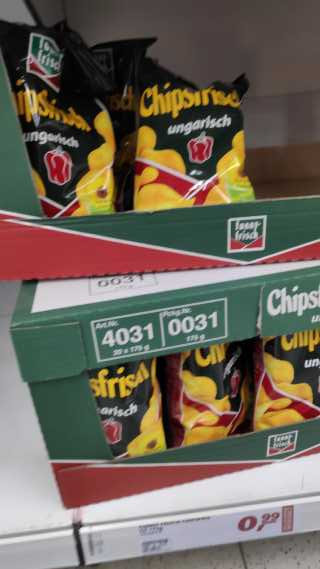chipsfrisch: (1, 19, 116, 218), (130, 55, 257, 212), (166, 339, 250, 449)
